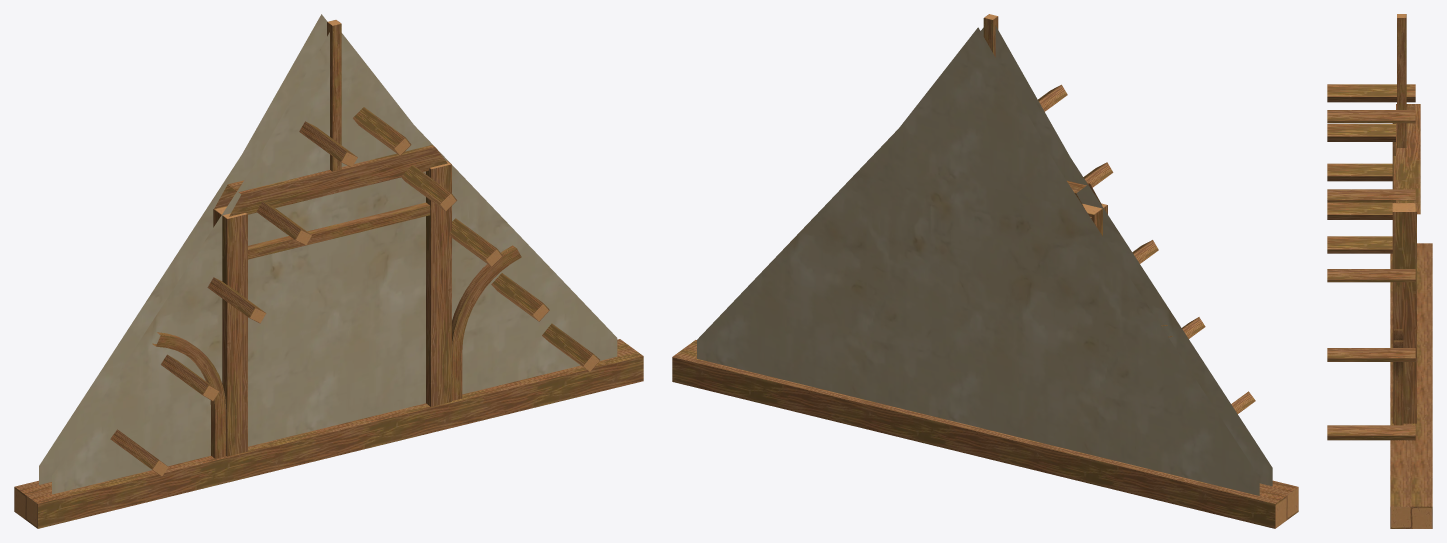
File: Roof_Front_Brick6.glb
3 renders of one model, left to right at view 1: azimuth 30°, elevation 25°; view 2: azimuth 150°, elevation 25°; view 3: azimuth 270°, elevation 25°, orthographic. The views are drawn at different scales.
Visible parts, largest first — view 1: Roof_Front_Brick6; view 2: Roof_Front_Brick6; view 3: Roof_Front_Brick6.
Part boxes in pixels (x1=…): Roof_Front_Brick6: x1=14, y1=14, x2=643, y2=528; Roof_Front_Brick6: x1=672, y1=14, x2=1298, y2=528; Roof_Front_Brick6: x1=1327, y1=14, x2=1432, y2=528.
Size of the model in its own units: 6.69 by 4.52 by 1.13.
2 materials, 2 textured.
